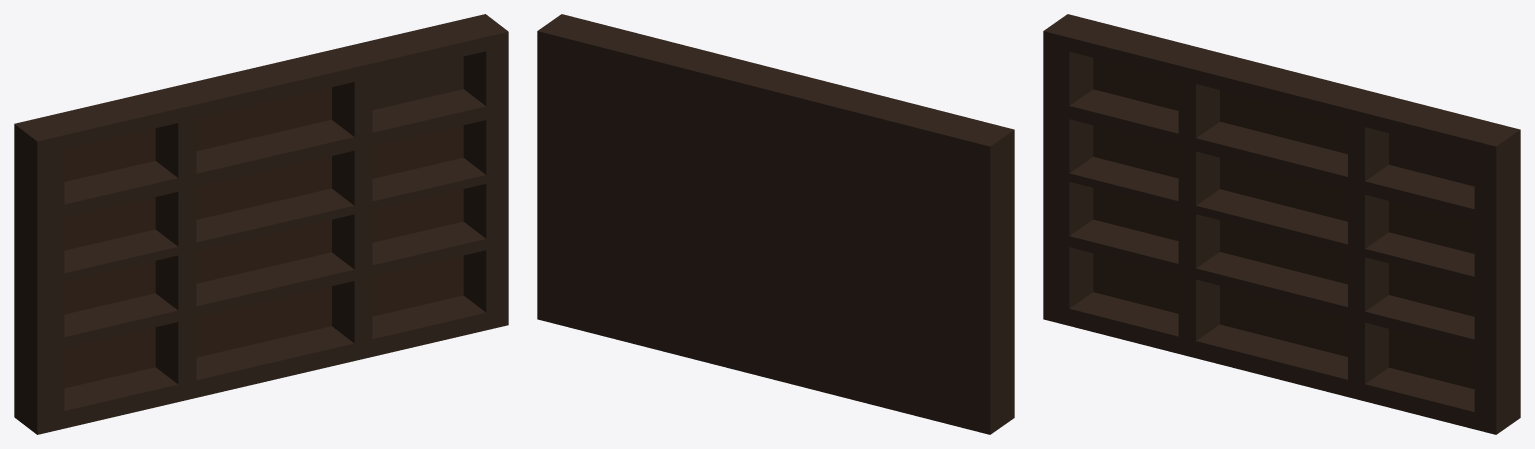
File: Library 3 Empty .fbx
3 views of the same model, side by side, from view 1: azimuth 30°, elevation 25°; view 2: azimuth 150°, elevation 25°; view 3: azimuth 330°, elevation 25° (orthographic).
Visible parts, largest first — view 1: Library 3.002; view 2: Library 3.002; view 3: Library 3.002.
Part boxes in pixels (left/top/right/bottom): Library 3.002: left=14, top=14, right=508, bottom=434; Library 3.002: left=537, top=14, right=1014, bottom=434; Library 3.002: left=1043, top=14, right=1520, bottom=434.
Size of the model in its own units: 784 by 471 by 85.22.
